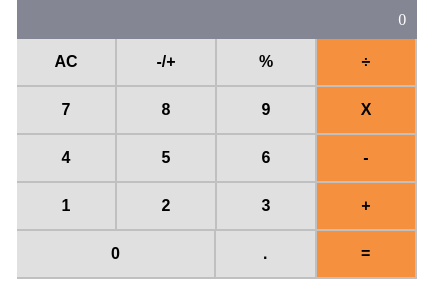
Test: App › when using unary operations › operation is applied to a result of a previous calculation
Click the button "1": (67, 207) x1=17 y1=183 x2=117 y2=231
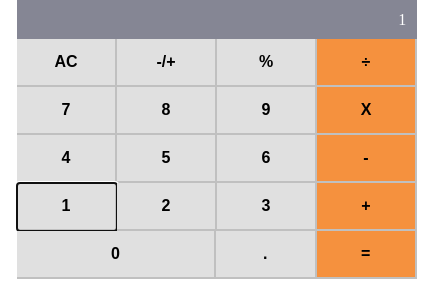
Click the button "+": (367, 207) x1=317 y1=183 x2=417 y2=231
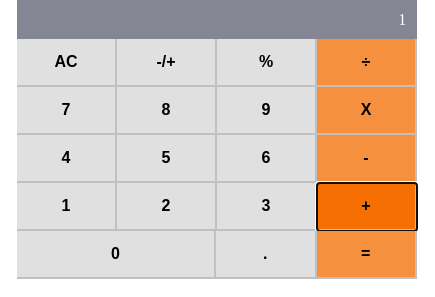
Click the button "2": (167, 207) x1=117 y1=183 x2=217 y2=231
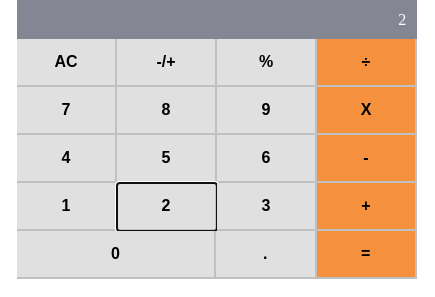
Click the button "=": (367, 255) x1=316 y1=231 x2=417 y2=279
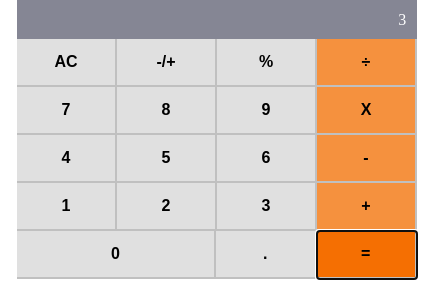
Click the button "%": (267, 63) x1=217 y1=39 x2=317 y2=87
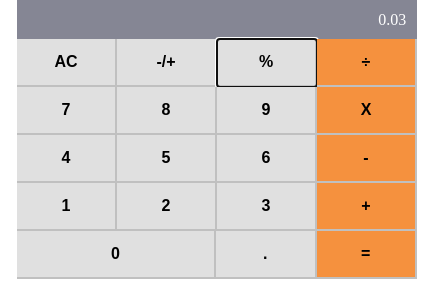
Expected: the text with class "display" reads "0.03", x1=378 y1=11 x2=406 y2=28
